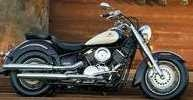motorcycle: (2, 10, 188, 99)
